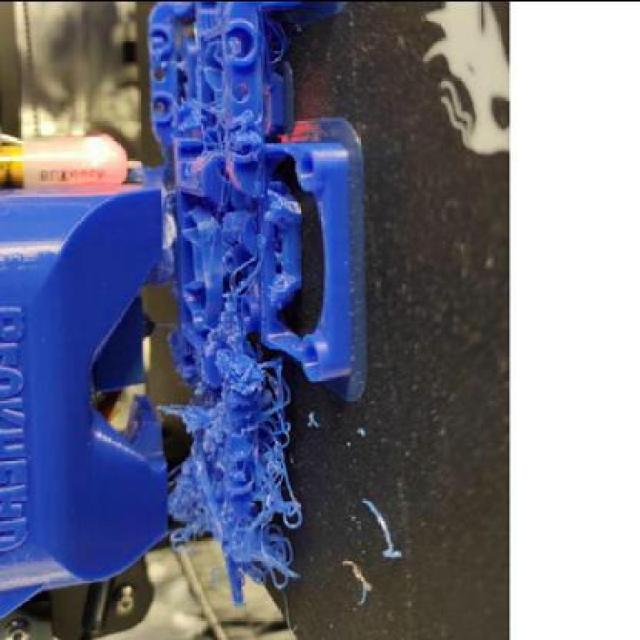Spaghetti: (155, 233, 300, 607), (179, 93, 261, 172)
